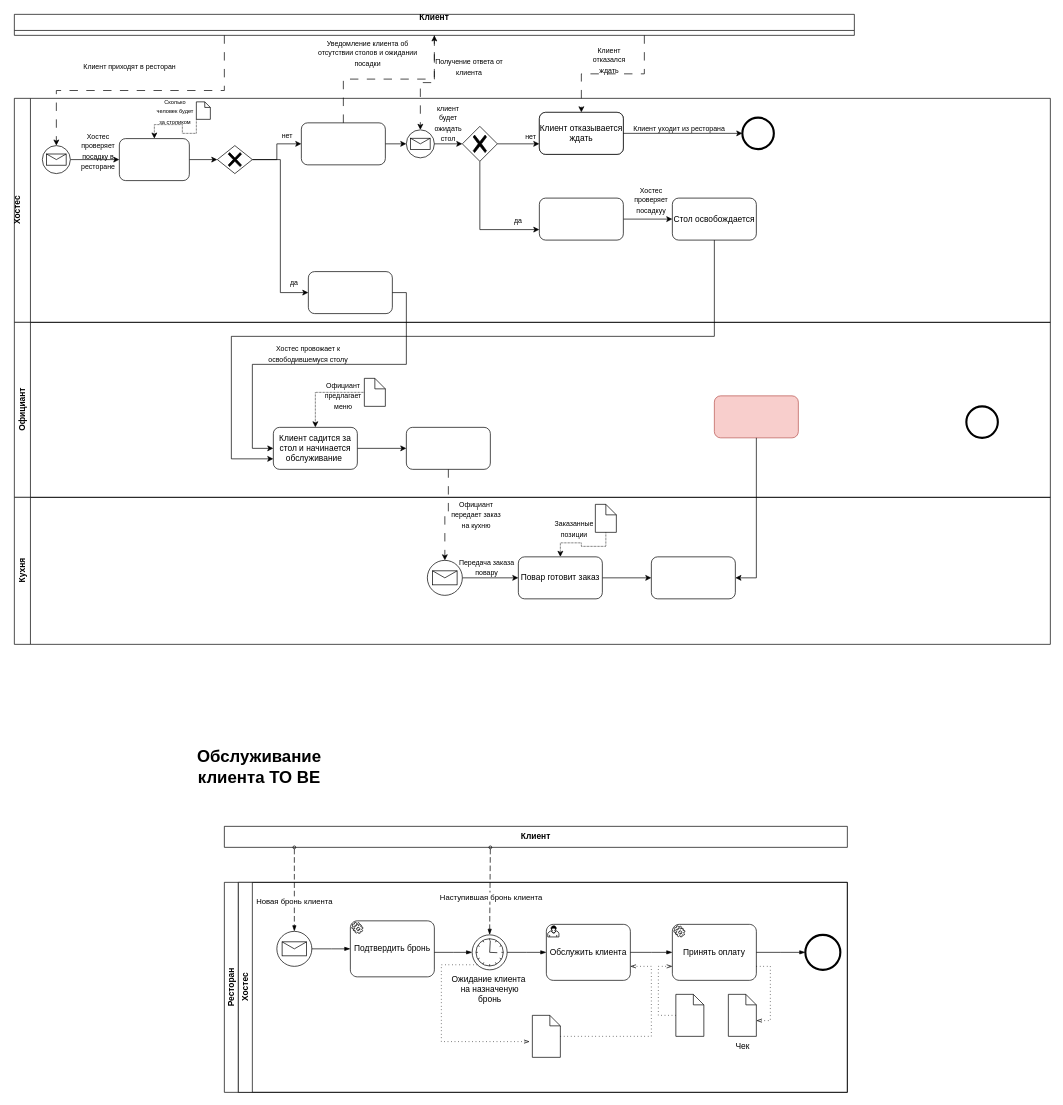
Image size: 1063x1105. Some labels were removed from this diagram. The shapes that lost their labels are listed below. From the top down, each one's box as (x1, y1, x2, y2) in pixels, then its label:
(119, 138, 189, 181): столы свободны
(301, 122, 385, 165): отказать клиенту или попросить подождать
(539, 197, 623, 240): Клиент ожидает стол
(308, 271, 392, 314): Приглашение клиента к свободному столику
(714, 395, 798, 438): Официант забирает заказ
(406, 427, 490, 469): Официант принимает заказ
(651, 556, 735, 599): Заказ приготовлен
(675, 994, 704, 1036): Деньги
(532, 1015, 560, 1057): Заказ клиента
